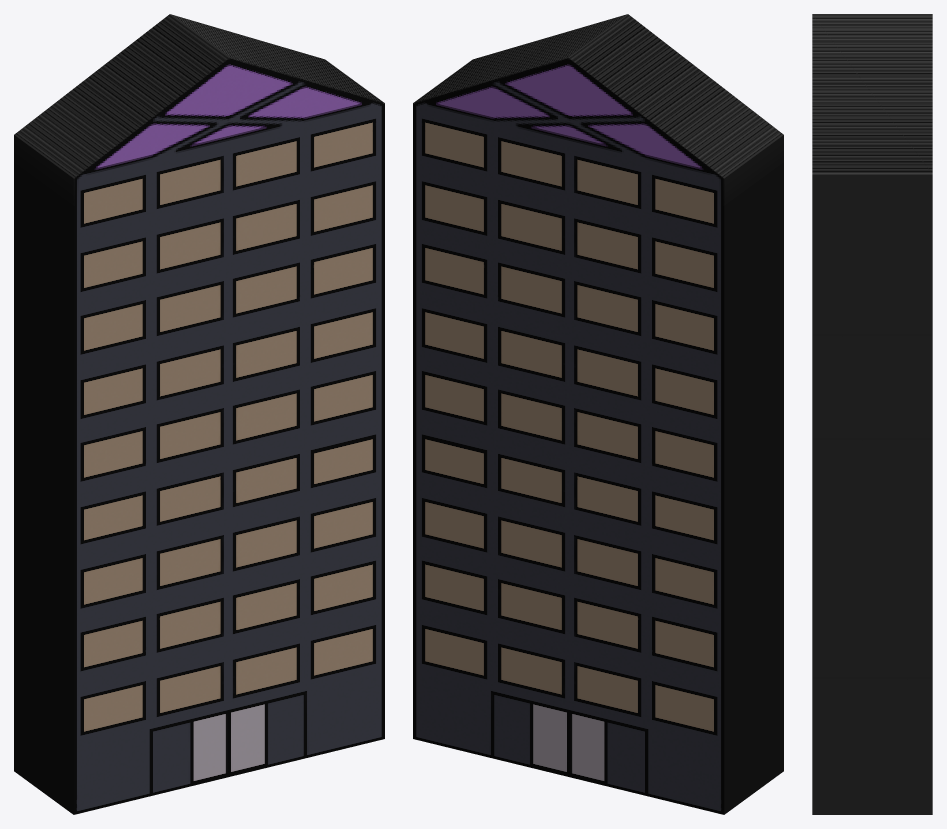
Rendered from building3.fbx.
The picture shows the model from 3 angles, left to right: view 1: azimuth 30°, elevation 25°; view 2: azimuth 150°, elevation 25°; view 3: azimuth 270°, elevation 25°; orthographic projection.
Visible parts, largest first — view 1: Building3; view 2: Building3; view 3: Building3.
Part boxes in pixels (x1,y1,x2,y2): Building3: [14, 14, 384, 814]; Building3: [413, 14, 783, 814]; Building3: [812, 14, 932, 814].
Bounding box in the file's own units: 301 × 665 × 100.
